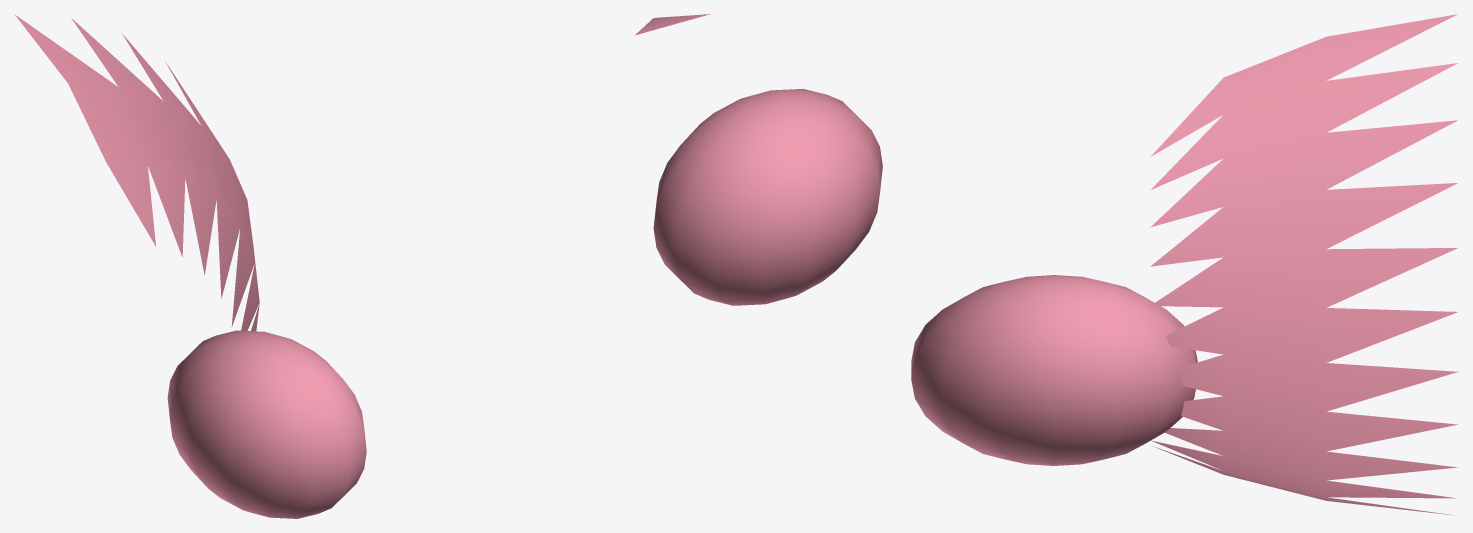
Rendered from foot-right.gltf.
3 renders of one model, left to right at view 1: azimuth 30°, elevation 25°; view 2: azimuth 150°, elevation 25°; view 3: azimuth 270°, elevation 25°, orthographic. The views are drawn at different scales.
Parts seen in each view (by area): view 1: Foot_Right; view 2: Foot_Right; view 3: Foot_Right.
Part boxes in pixels (bbox=[...]): Foot_Right: bbox=[15, 15, 366, 518]; Foot_Right: bbox=[635, 14, 882, 305]; Foot_Right: bbox=[911, 14, 1458, 515].
Size of the model in its own units: 0.0384 by 0.0722 by 0.0745.
